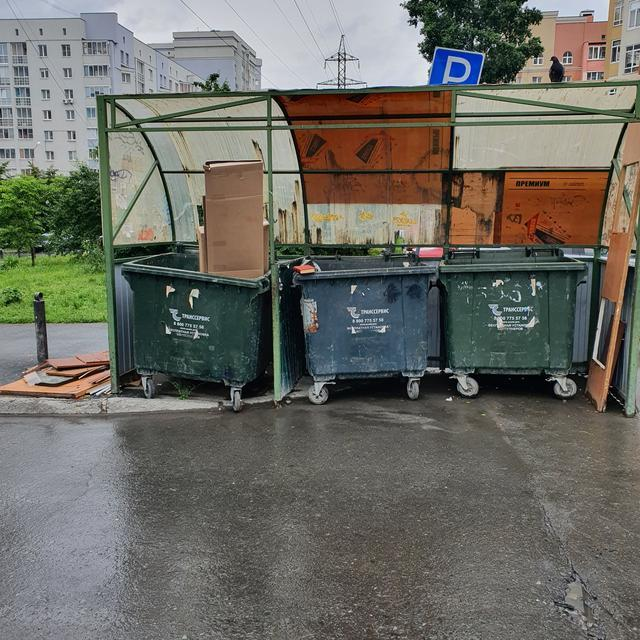Trash_Can_Empty: (435, 251, 588, 374), (298, 251, 436, 379)
Trash_Can_Full: (121, 206, 271, 388)
